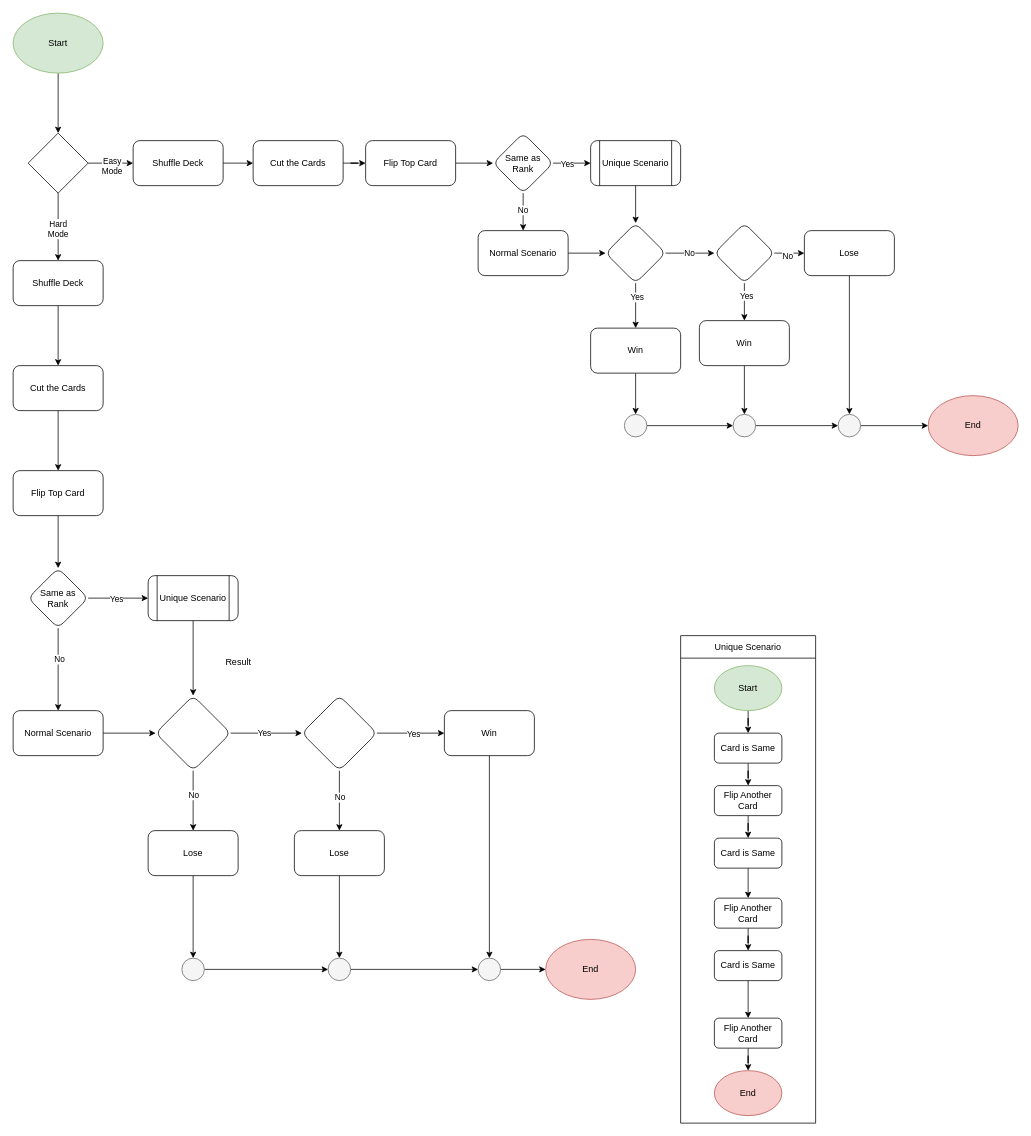
The diagram is 1031 pixels wide and 1136 high, and some of its shapes have lost their labels. Here are the shapes that lost their labels. From the top down, the box of each, then its label:
(27, 132, 88, 193): Easy or Hard Mode
(605, 222, 666, 283): Any Card Higher or Lower
(714, 222, 774, 283): Any Card Red or Black
(155, 695, 231, 771): First Card Higher or Lower
(301, 695, 377, 771): Second Card Red or Black
